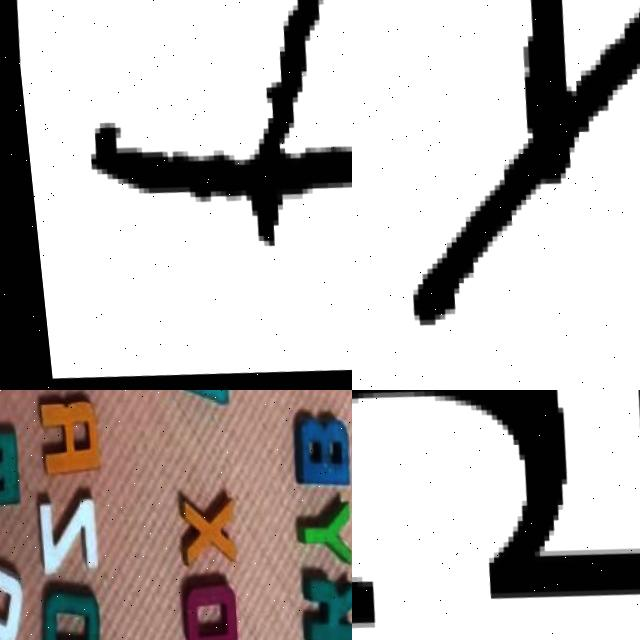5: (352, 390, 640, 640)
A: (352, 0, 640, 348)
B: (283, 420, 348, 496)
D: (27, 589, 93, 640)
K: (288, 577, 352, 640)
M: (0, 424, 17, 508)
O: (173, 588, 229, 640)
P: (42, 0, 352, 256)
Q: (0, 551, 17, 640)
R: (27, 396, 98, 481)
V: (164, 390, 228, 411)
X: (171, 504, 231, 574)
Y: (289, 508, 345, 571)
Z: (26, 493, 92, 576)
